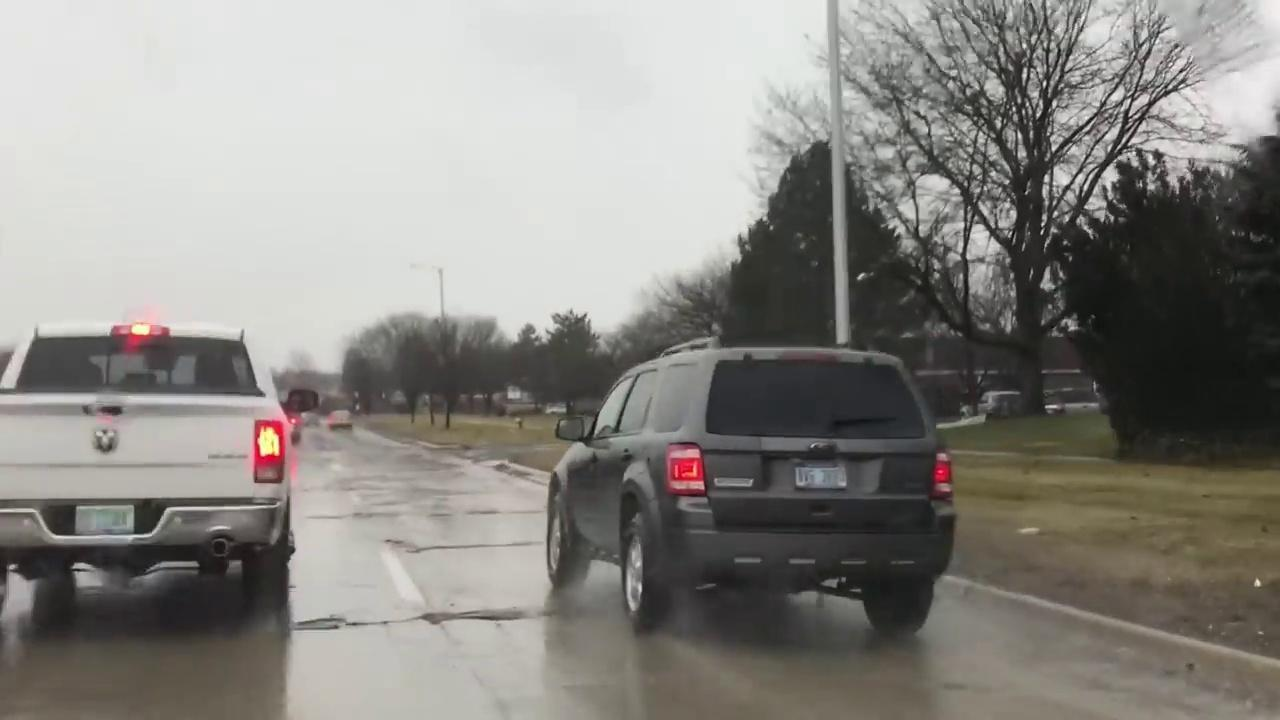pothole: (384, 538, 538, 553), (419, 608, 532, 623), (292, 616, 346, 630)
